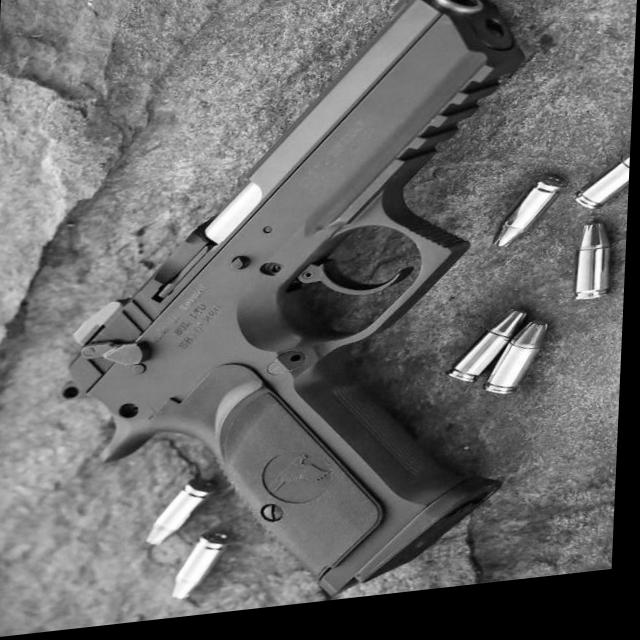handgun: (21, 0, 569, 636)
